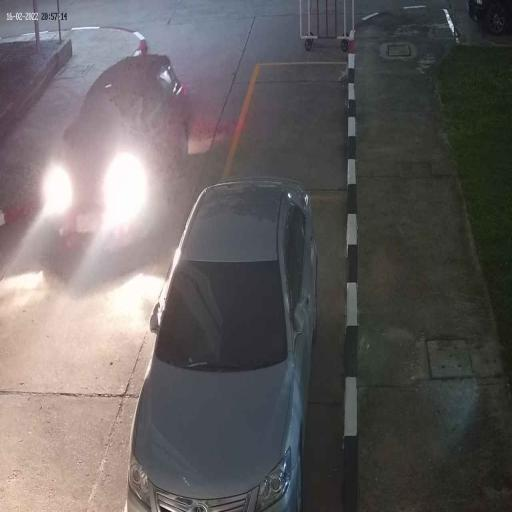car: (126, 174, 318, 512), (53, 51, 188, 255)
